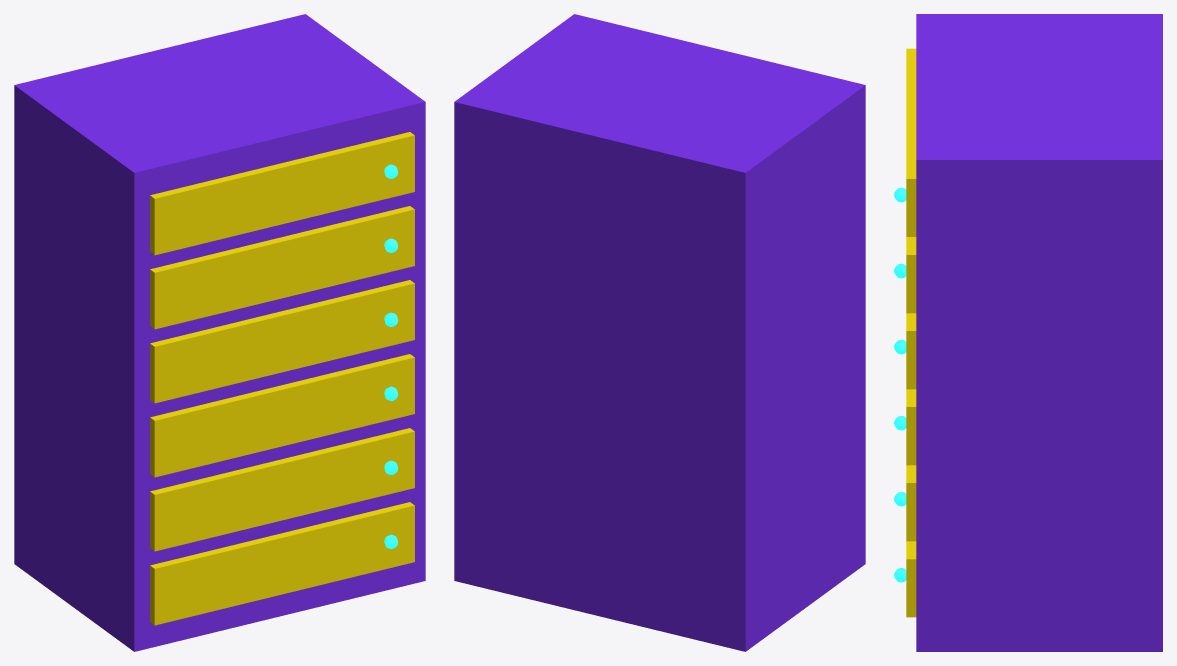
The model's file is rack.glb.
The picture shows the model from 3 angles, left to right: view 1: azimuth 30°, elevation 25°; view 2: azimuth 150°, elevation 25°; view 3: azimuth 270°, elevation 25°; orthographic projection. The views are drawn at different scales.
Visible parts, largest first — view 1: object 1, object 2, object 4, object 6, object 8, object 10, object 12; view 2: object 1; view 3: object 1, object 12, object 2, object 4, object 6, object 8, object 10.
Boxes of the visible parts, <box> form: object 1: <box>14,14,425,651</box>; object 2: <box>150,502,414,625</box>; object 4: <box>150,428,414,551</box>; object 6: <box>150,354,414,477</box>; object 8: <box>150,280,414,403</box>; object 10: <box>150,206,414,329</box>; object 12: <box>150,132,414,255</box>; object 1: <box>454,14,865,651</box>; object 1: <box>916,14,1162,651</box>; object 12: <box>906,48,916,236</box>; object 2: <box>906,541,916,617</box>; object 4: <box>906,465,916,541</box>; object 6: <box>906,389,916,465</box>; object 8: <box>906,313,916,389</box>; object 10: <box>906,237,916,313</box>.
Size of the model in its own units: 1.4 by 2.2 by 1.09.
